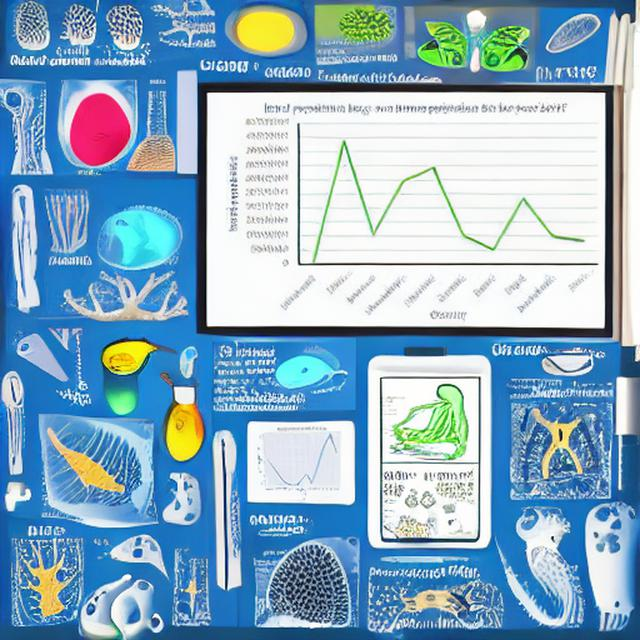Graph: (225, 99, 603, 321), (252, 422, 350, 496)
